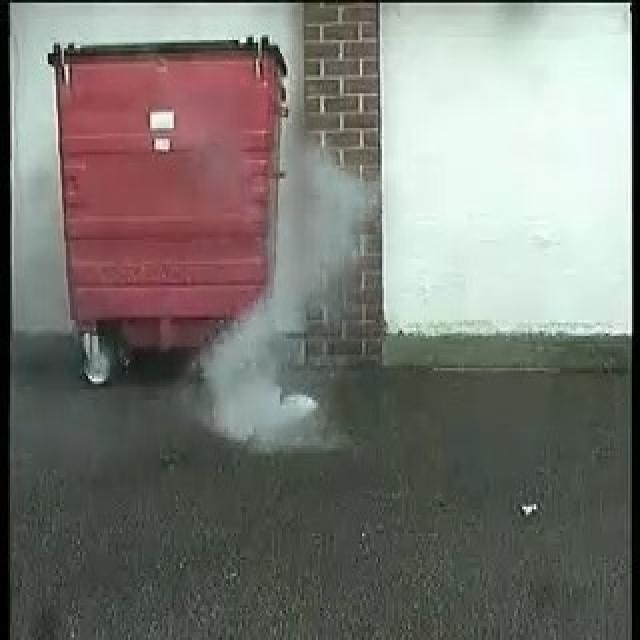smoke: (202, 147, 377, 443)
